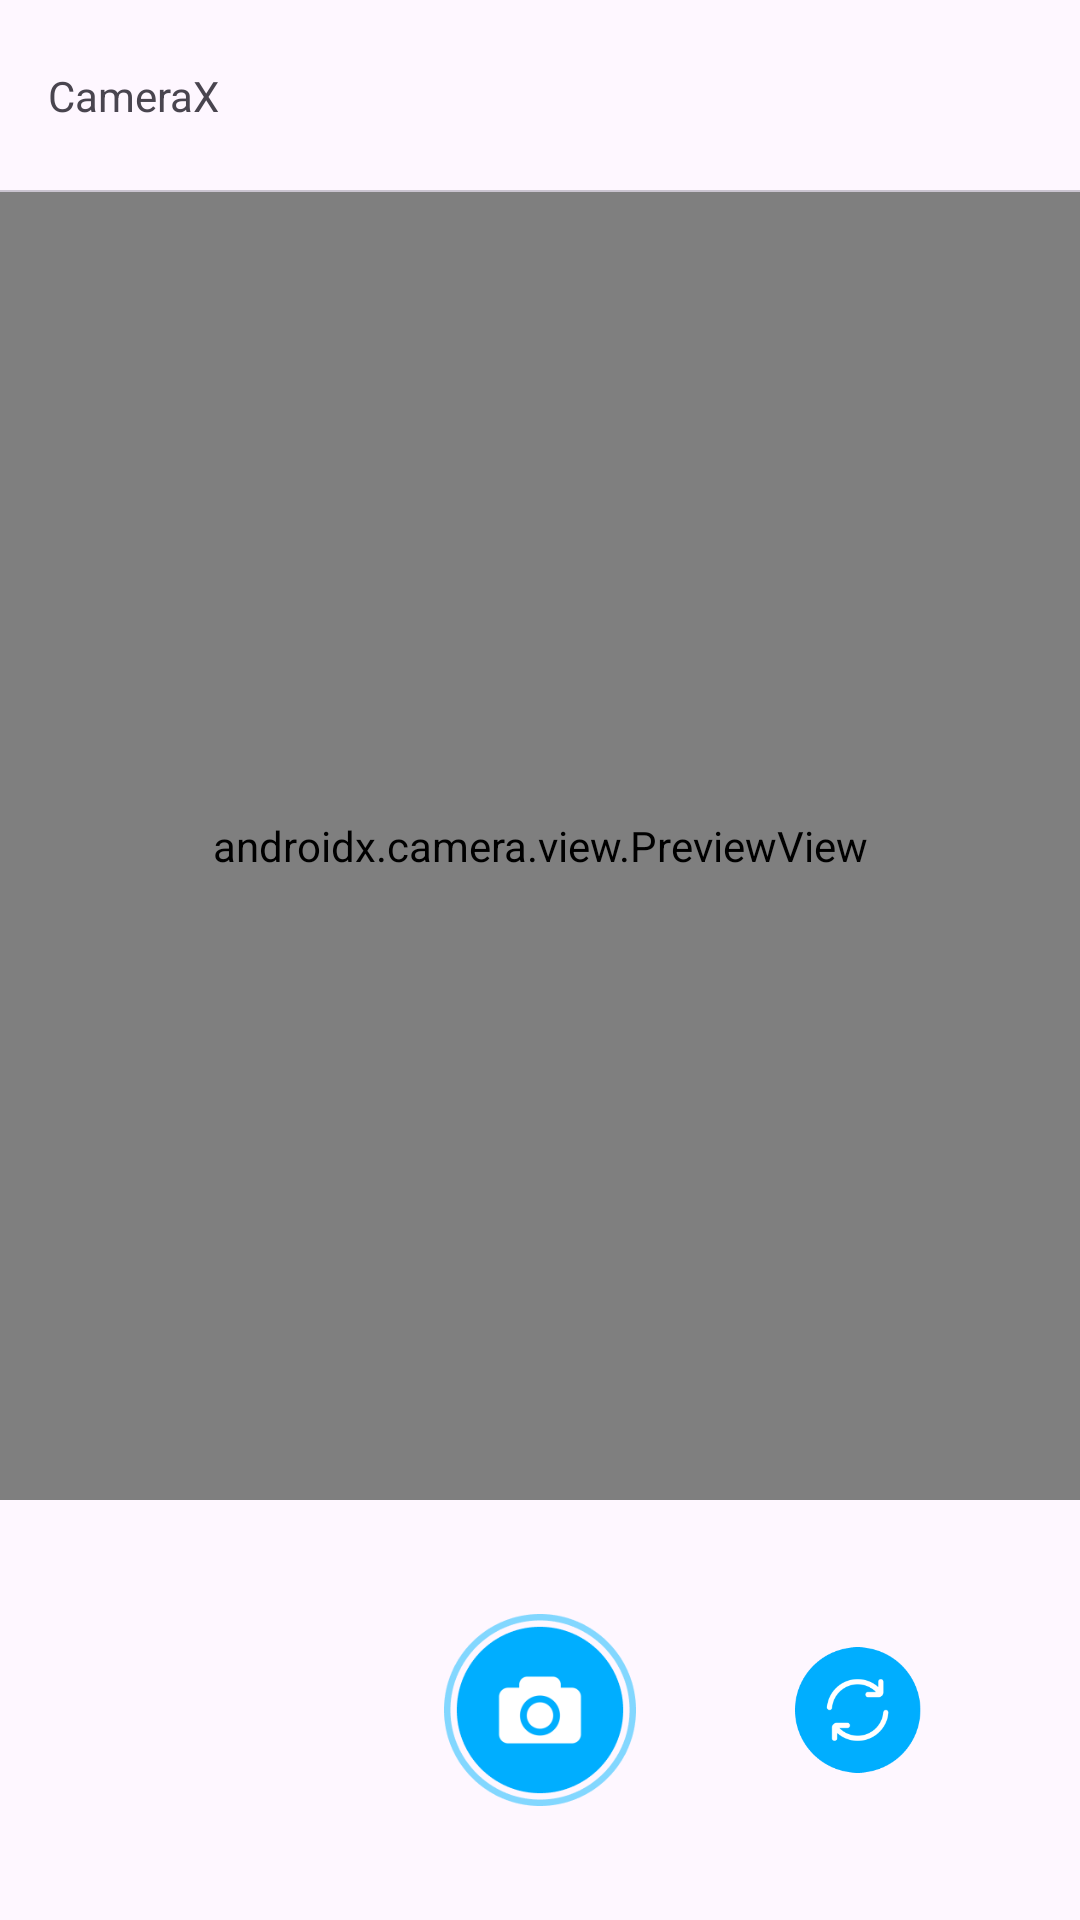

Screen size 1080*1920. Icon name, then its center in pixels as (x=x, y=y):
capture: (x=540, y=1710)
switch: (x=858, y=1710)
